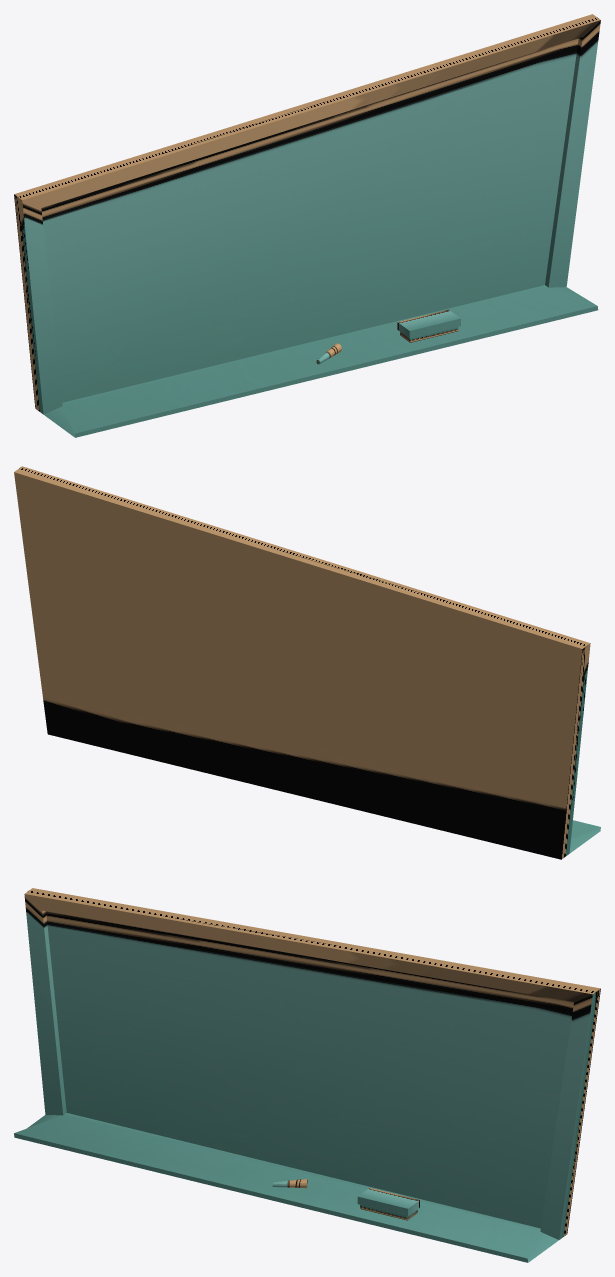
Rendered from chalkboard.obj.
3 renders of one model, top to bottom at view 1: azimuth 30°, elevation 25°; view 2: azimuth 150°, elevation 25°; view 3: azimuth 330°, elevation 25°, orthographic.
Visible parts, largest first — view 1: pCube1, pCube2; view 2: pCube1; view 3: pCube1, pCube2.
Boxes of the visible parts, bbox=[...] form: pCube1: bbox=[14, 14, 600, 437]; pCube2: bbox=[397, 309, 460, 342]; pCube1: bbox=[14, 466, 600, 859]; pCube1: bbox=[14, 888, 600, 1262]; pCube2: bbox=[357, 1188, 419, 1220].
Size of the model in its own units: 12.04 by 5.14 by 1.44.
